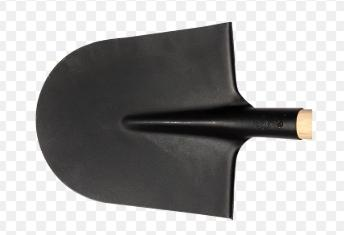PELLE: (22, 13, 338, 224)
